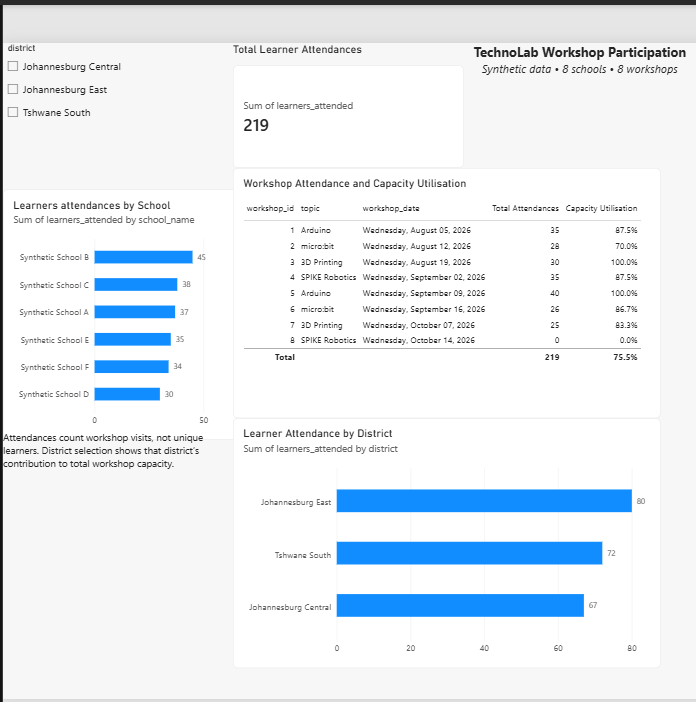

The dashboard page shown, as its layout file describes it:
{"tool":"powerbi","page":{"name":"Page 1","canvas":[1920,1080],"ordinal":0},"visuals":[{"type":"clusteredBarChart","title":"Learners attendances by School","fields":{"Category":["schools.school_name"],"Y":["Sum(attendance.learners_attended)"]},"box":[0,240.8,391.1,411.7],"z":0},{"type":"clusteredBarChart","title":"Learner Attendance by District","fields":{"Category":["schools.district"],"Y":["Sum(attendance.learners_attended)"]},"box":[378.7,617.5,703.9,411.7],"z":1},{"type":"cardVisual","title":"Total Learner Attendances","fields":{"Data":["Sum(attendance.learners_attended)"]},"box":[378.7,0,380.8,205.8],"z":2},{"type":"tableEx","title":"Workshop Attendance and Capacity Utilisation","fields":{"Values":["workshops.workshop_id","workshops.topic","workshops.workshop_date","attendance.Total Attendances","attendance.Capacity Utilisation"]},"box":[378.7,205.8,703.9,411.7],"z":3},{"type":"slicer","fields":{"Values":["schools.district"]},"box":[0,0,378.7,240.8],"z":4},{"type":"textbox","box":[1042.5,0,381,206],"z":5},{"type":"textbox","box":[0,638.1,378.7,154.4],"z":6}]}

Visuals, with their boxes on the page's 1920x1080 design canvas (x1, y1, x2, y2). These are canvas units, not pixel positions in the 696x702 screenshot, which may show the page scaled, cropped or inside an application window:
"Learners attendances by School" clusteredBarChart: left=0, top=241, right=391, bottom=652
"Learner Attendance by District" clusteredBarChart: left=379, top=618, right=1083, bottom=1029
"Total Learner Attendances" cardVisual: left=379, top=0, right=760, bottom=206
"Workshop Attendance and Capacity Utilisation" tableEx: left=379, top=206, right=1083, bottom=618
slicer - schools.district: left=0, top=0, right=379, bottom=241
textbox: left=1042, top=0, right=1424, bottom=206
textbox: left=0, top=638, right=379, bottom=792
